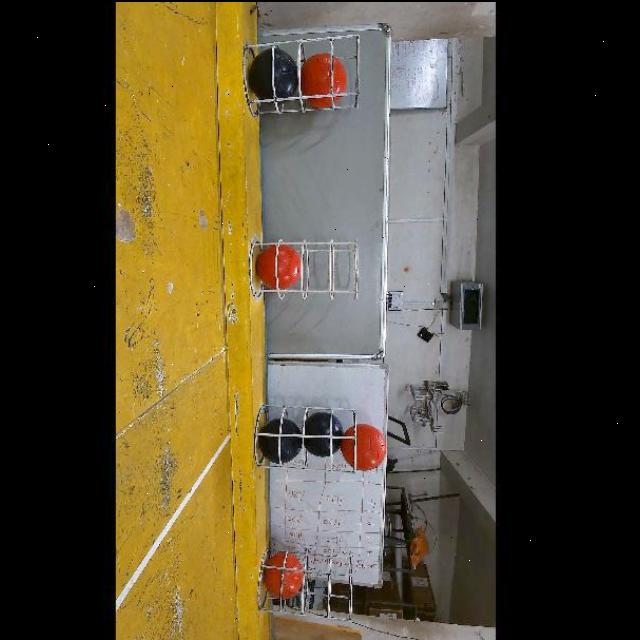P: (250, 45, 298, 102), (259, 417, 304, 463), (305, 410, 345, 456)
R: (301, 51, 349, 106), (342, 422, 387, 469), (256, 244, 300, 289), (264, 551, 304, 599)
S: (247, 36, 367, 110), (256, 406, 358, 466), (256, 554, 354, 612), (250, 242, 358, 294)
